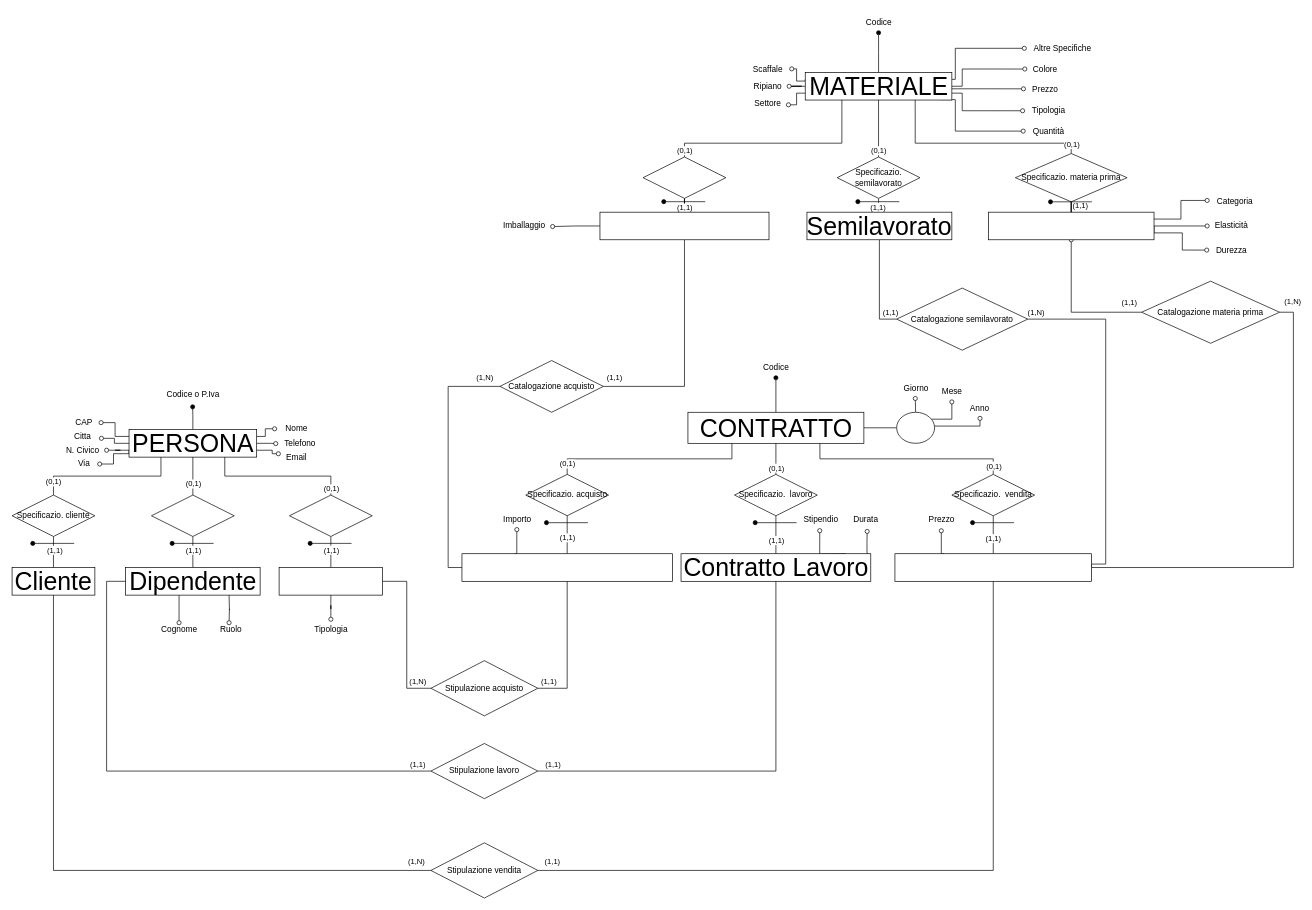
This 1312x910 diagram has some shape labels left out. Each missing label, with the box of its shape:
Contratto Acquisto: (461, 553, 672, 581)
Contratto Vendita: (894, 553, 1092, 581)
Data: (896, 412, 935, 443)
Fornitore: (278, 567, 383, 595)
Materia Prima: (988, 211, 1154, 240)
Prodotto Finito: (599, 211, 769, 240)
Specificazio. dipendente: (151, 494, 234, 536)
Specificazio. fornitore: (289, 494, 372, 536)
Specificazio. prodotto finito: (642, 156, 726, 198)
